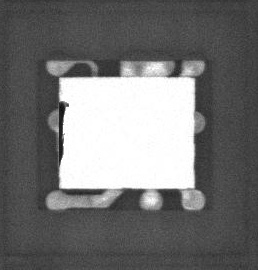DIE_BROKEN: (55, 98, 71, 169)
